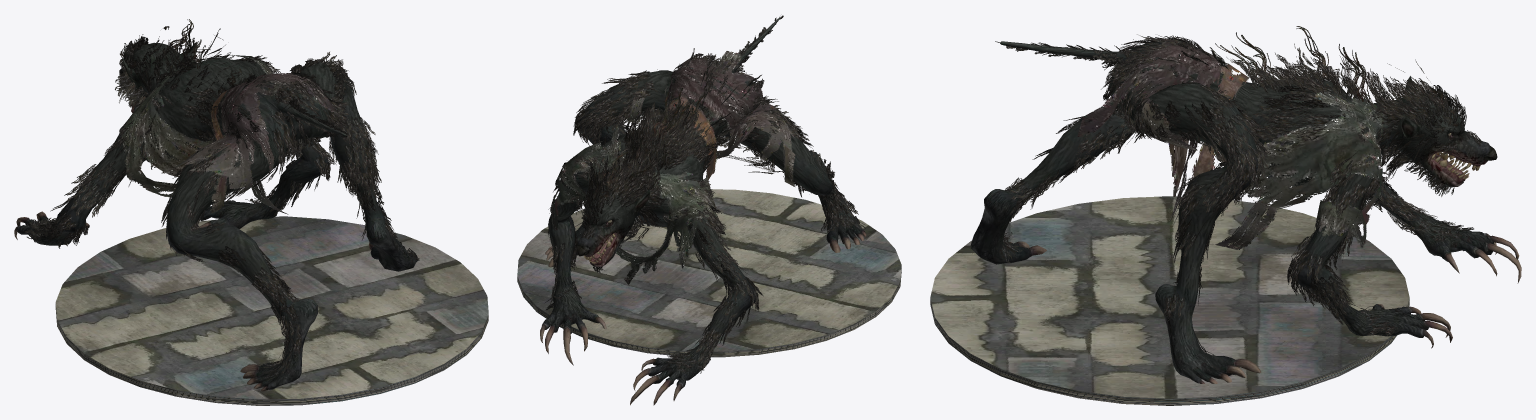
File: scourge-beast.glb
The picture shows the model from 3 angles, left to right: view 1: azimuth 30°, elevation 25°; view 2: azimuth 150°, elevation 25°; view 3: azimuth 270°, elevation 25°; orthographic projection. The views are drawn at different scales.
Visible parts, largest first — view 1: 7-Cylinder.obj, 9-m1__10__M.001.obj, 41-m2__10__Fur.001.obj, 21-m0__10__cloth.001.obj, 16-m4__10_Fur4_cloth.001.obj, 53-m3__10__Fur5_cloth.001.obj, 55-m5__10_Fur2_cloth.001.obj; view 2: 7-Cylinder.obj, 9-m1__10__M.001.obj, 41-m2__10__Fur.001.obj, 21-m0__10__cloth.001.obj, 16-m4__10_Fur4_cloth.001.obj, 55-m5__10_Fur2_cloth.001.obj, 53-m3__10__Fur5_cloth.001.obj; view 3: 7-Cylinder.obj, 9-m1__10__M.001.obj, 41-m2__10__Fur.001.obj, 21-m0__10__cloth.001.obj, 16-m4__10_Fur4_cloth.001.obj, 55-m5__10_Fur2_cloth.001.obj, 53-m3__10__Fur5_cloth.001.obj.
Part boxes in pixels (x1,y1,x2,y2): 7-Cylinder.obj: (55, 216, 488, 405); 9-m1__10__M.001.obj: (14, 42, 418, 391); 41-m2__10__Fur.001.obj: (24, 36, 419, 382); 21-m0__10__cloth.001.obj: (119, 55, 342, 214); 16-m4__10_Fur4_cloth.001.obj: (159, 34, 247, 101); 53-m3__10__Fur5_cloth.001.obj: (145, 19, 242, 88); 55-m5__10_Fur2_cloth.001.obj: (122, 34, 180, 85); 7-Cylinder.obj: (517, 189, 901, 357); 9-m1__10__M.001.obj: (540, 17, 866, 405); 41-m2__10__Fur.001.obj: (544, 15, 865, 373); 21-m0__10__cloth.001.obj: (550, 51, 798, 284); 16-m4__10_Fur4_cloth.001.obj: (625, 97, 704, 174); 55-m5__10_Fur2_cloth.001.obj: (588, 144, 660, 207); 53-m3__10__Fur5_cloth.001.obj: (593, 84, 706, 200); 7-Cylinder.obj: (930, 196, 1409, 405); 9-m1__10__M.001.obj: (970, 41, 1521, 383); 41-m2__10__Fur.001.obj: (995, 35, 1481, 366); 21-m0__10__cloth.001.obj: (1077, 34, 1384, 262); 16-m4__10_Fur4_cloth.001.obj: (1226, 43, 1358, 99); 55-m5__10_Fur2_cloth.001.obj: (1354, 68, 1446, 128); 53-m3__10__Fur5_cloth.001.obj: (1215, 26, 1449, 107).
Bounding box in the file's own units: 3 × 2.06 × 3.7.
3 materials, 3 textured.
